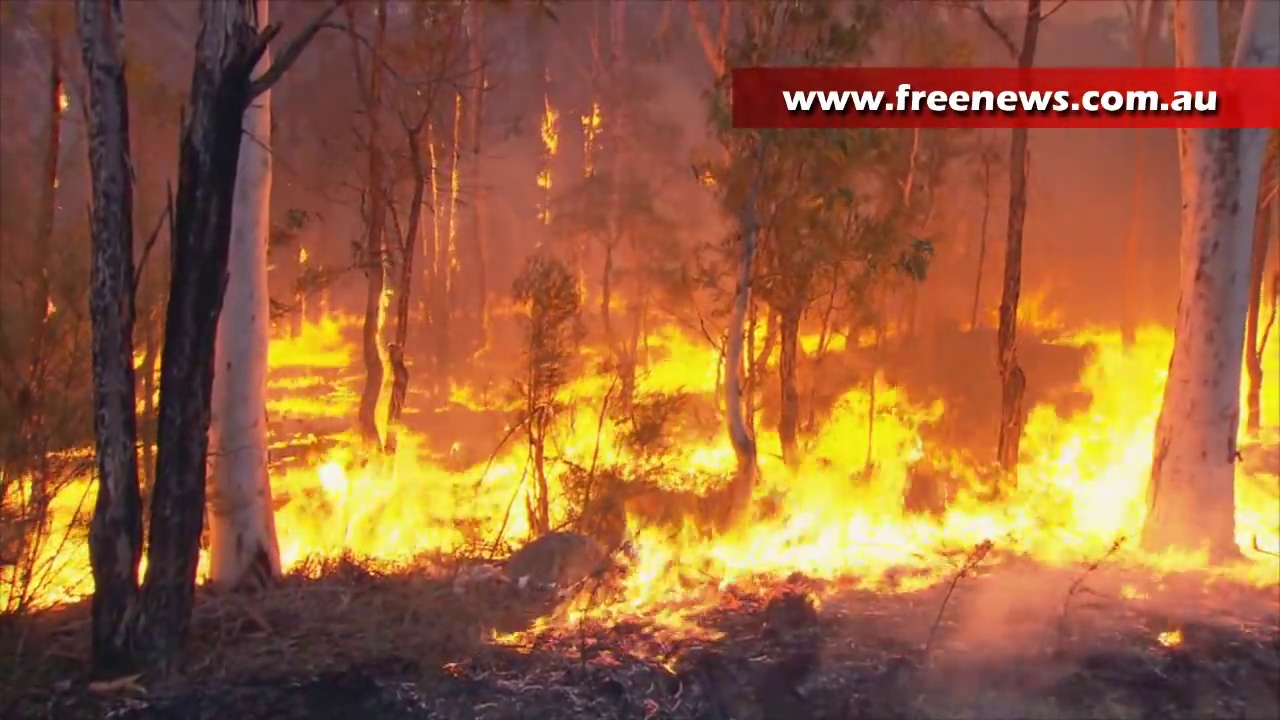fire: (264, 311, 724, 563), (750, 375, 996, 582), (1013, 318, 1157, 558), (562, 563, 747, 644), (1232, 314, 1280, 547), (1, 478, 88, 604), (535, 109, 560, 157), (577, 104, 603, 150), (803, 331, 847, 353)
